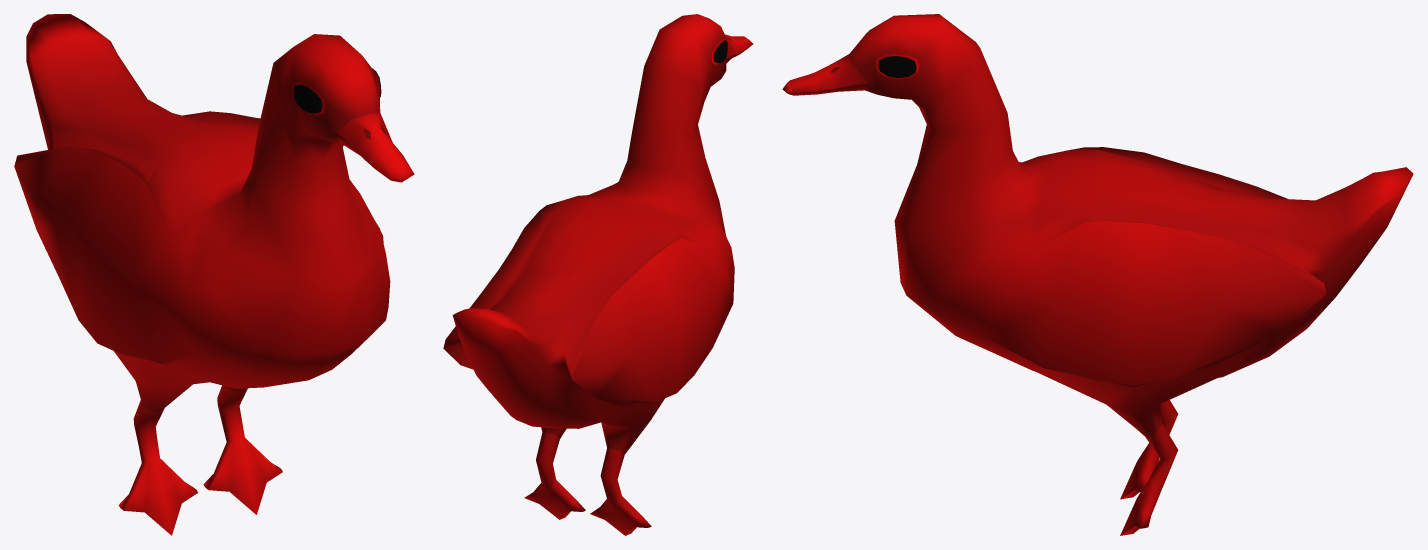
The model's file is BirdsUpright_PekinDuck.fbx.
3 renders of one model, left to right at view 1: azimuth 30°, elevation 25°; view 2: azimuth 150°, elevation 25°; view 3: azimuth 270°, elevation 25°, orthographic. The views are drawn at different scales.
Parts seen in each view (by area): view 1: base; view 2: base; view 3: base.
Boxes of the visible parts, x1=… form: base: x1=14, y1=14, x2=414, y2=535; base: x1=443, y1=14, x2=753, y2=535; base: x1=782, y1=14, x2=1413, y2=535.
Bounding box in the file's own units: 28.2 × 63.75 × 72.98.
